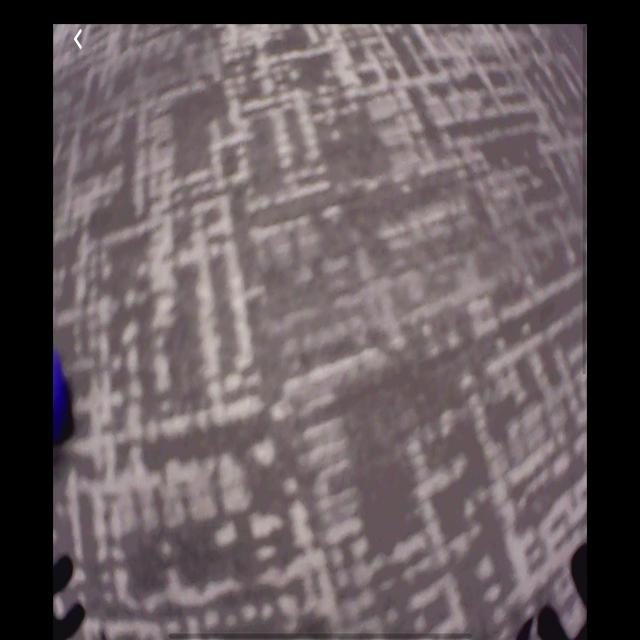ball: (54, 340, 72, 447)
